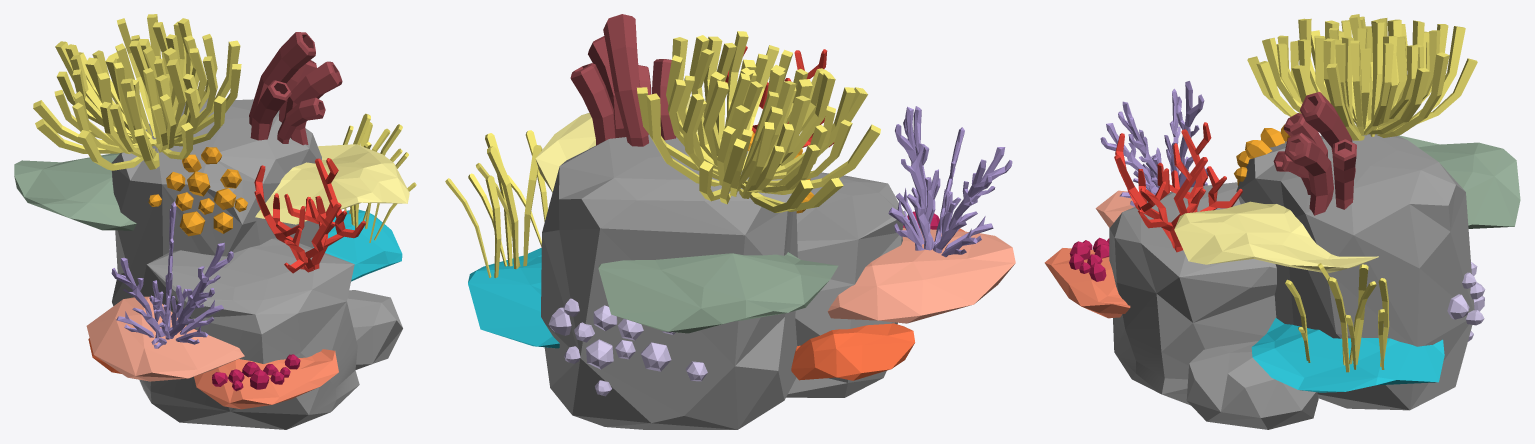
File: Coral_reef_001.glb
3 renders of one model, left to right at view 1: azimuth 30°, elevation 25°; view 2: azimuth 150°, elevation 25°; view 3: azimuth 270°, elevation 25°, orthographic. The views are drawn at different scales.
Parts seen in each view (by area): view 1: Coral_reef_001; view 2: Coral_reef_001; view 3: Coral_reef_001.
Part boxes in pixels (<box>): Coral_reef_001: <box>14,14,416,429</box>; Coral_reef_001: <box>445,14,1015,429</box>; Coral_reef_001: <box>1044,14,1520,429</box>.
Size of the model in its own units: 3.38 by 2.86 by 3.53.
Materials: 1 (1 with a texture image).
